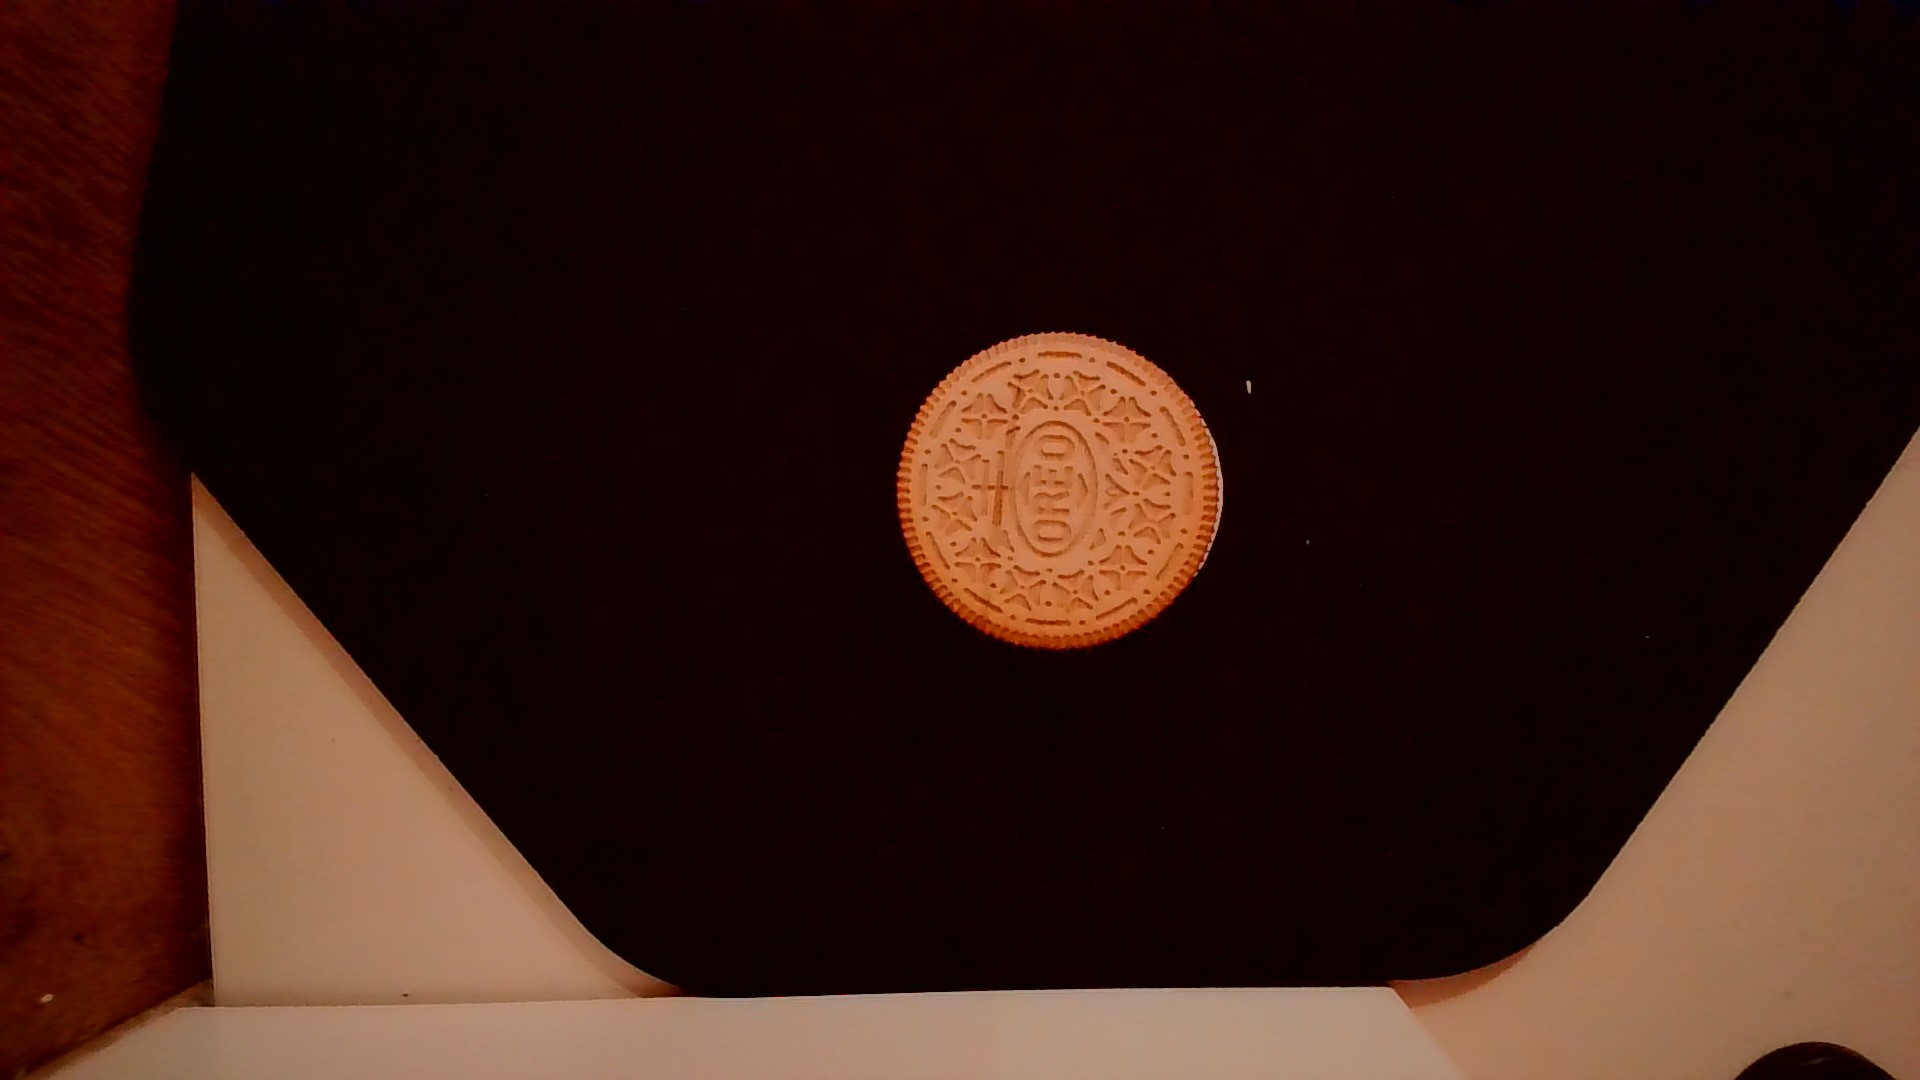Oréo: (882, 320, 1228, 655)
